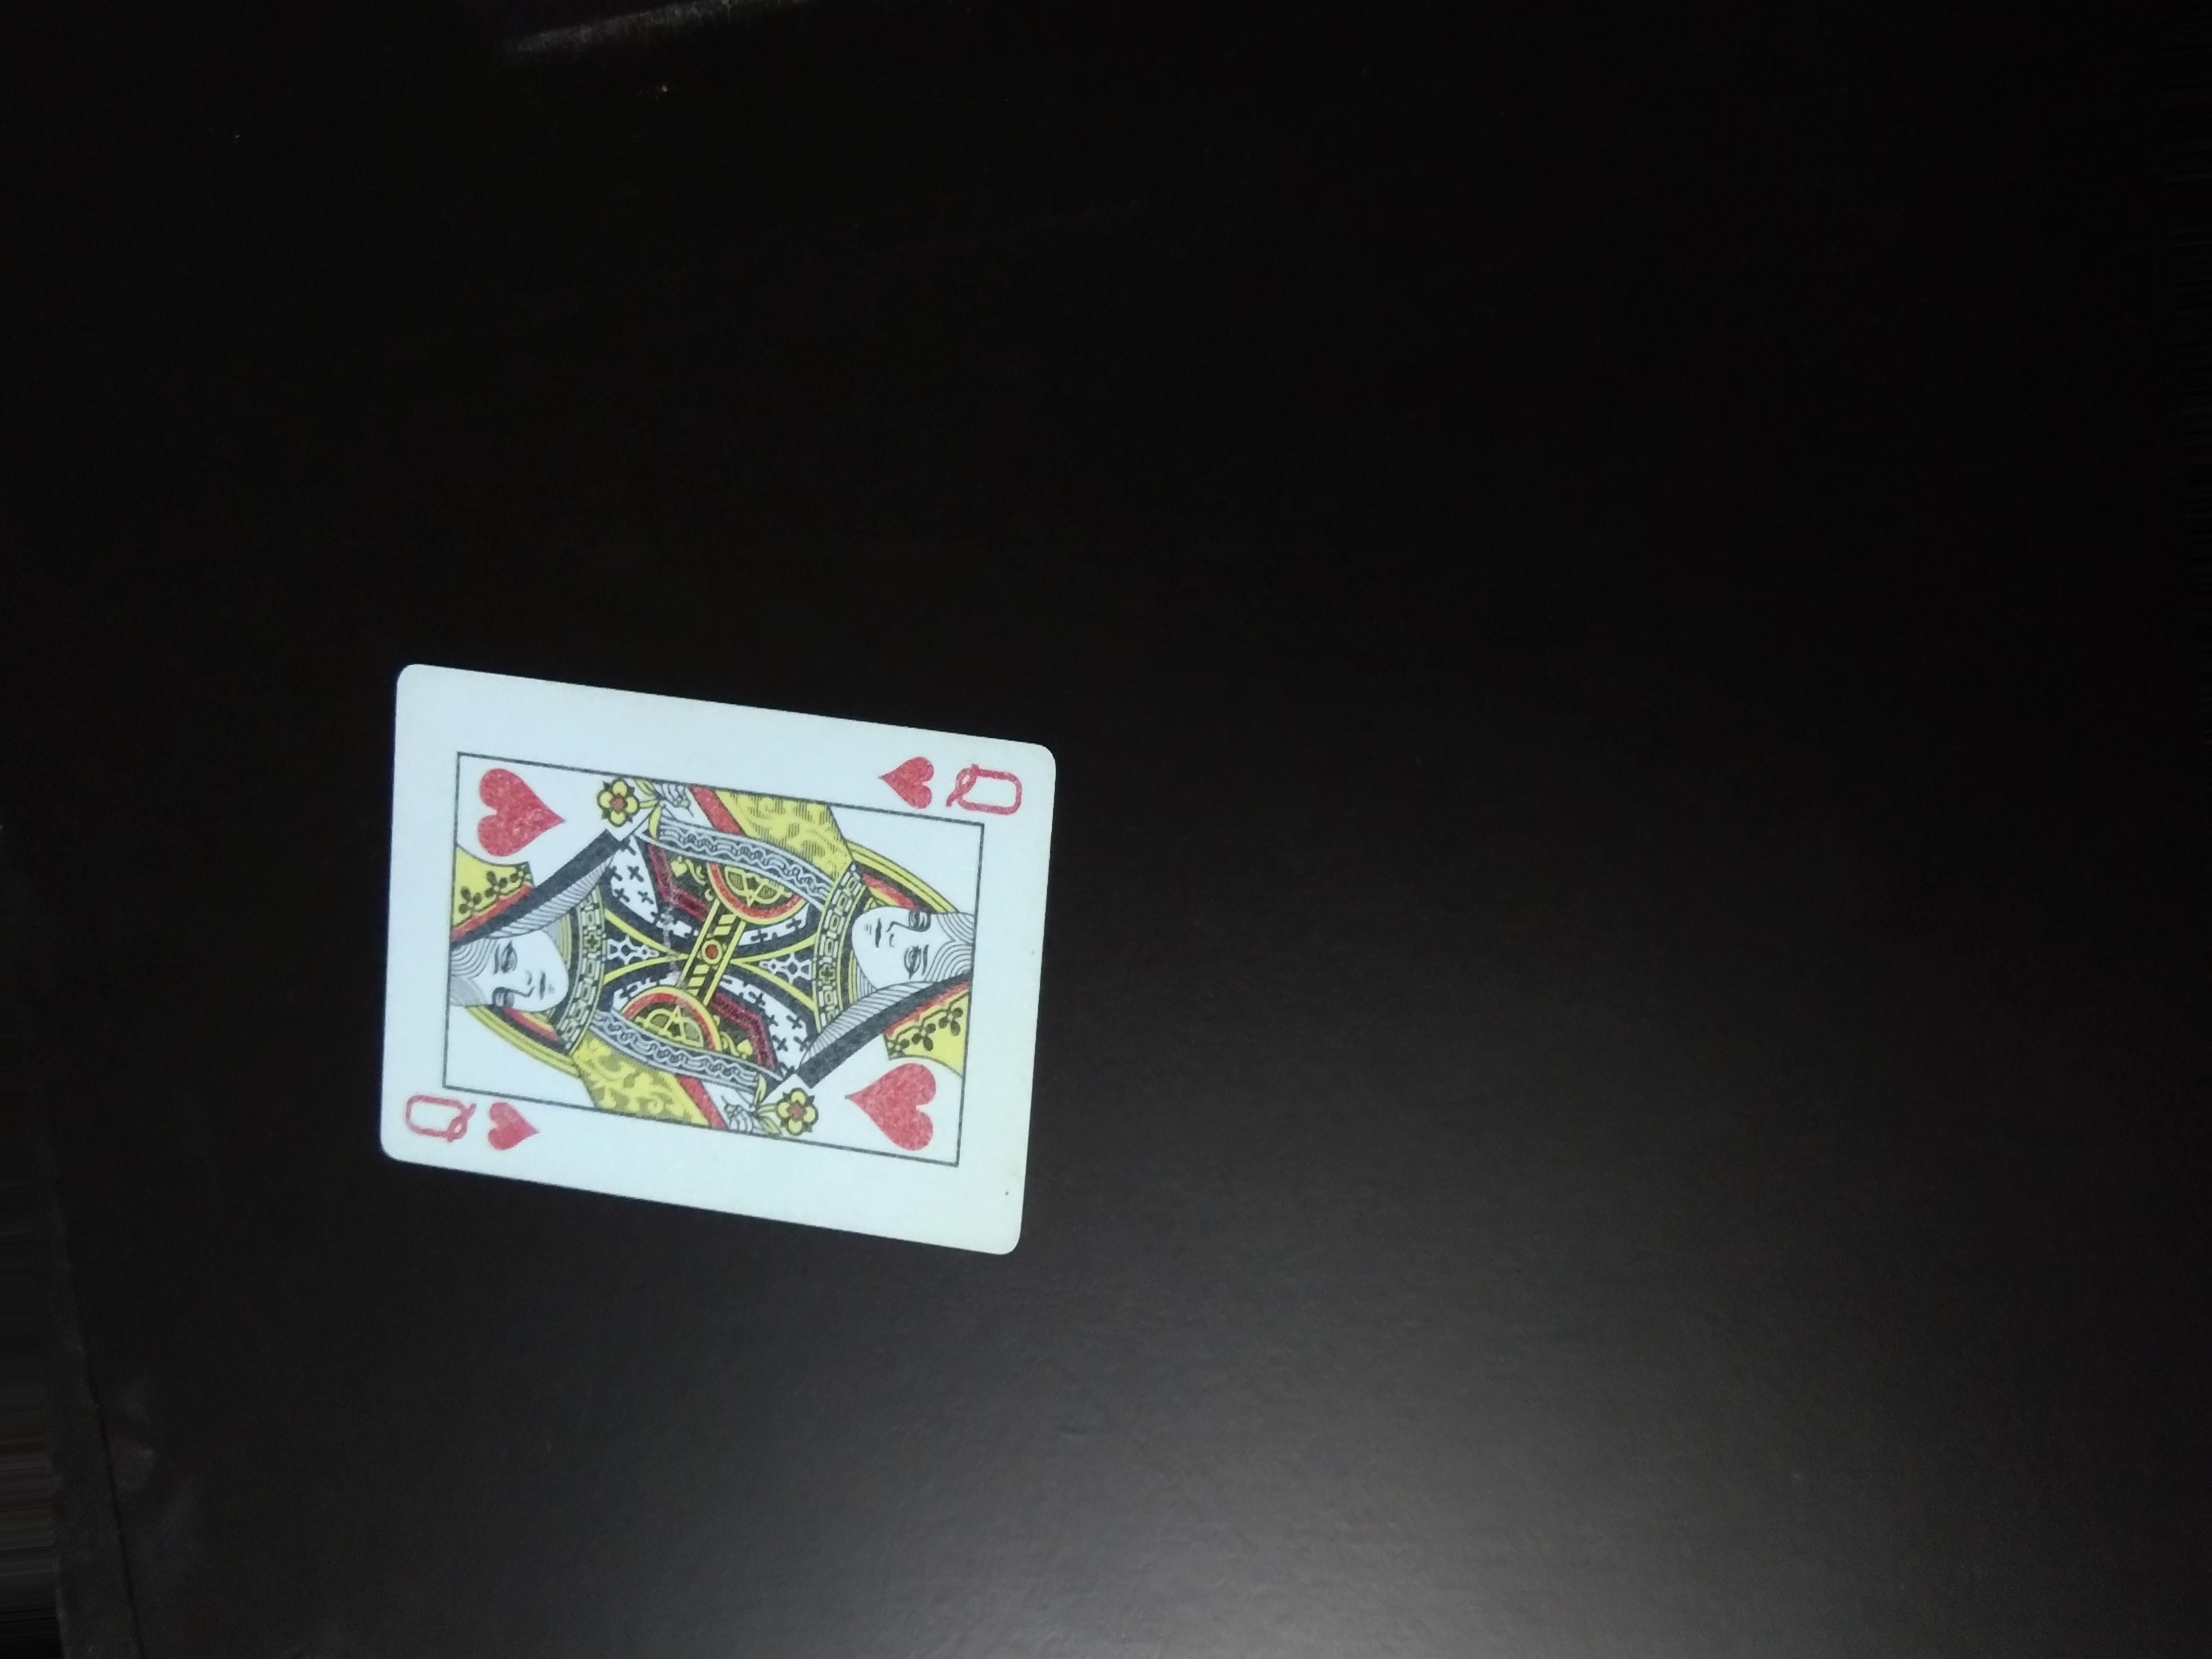QH: (381, 1079, 568, 1159)
